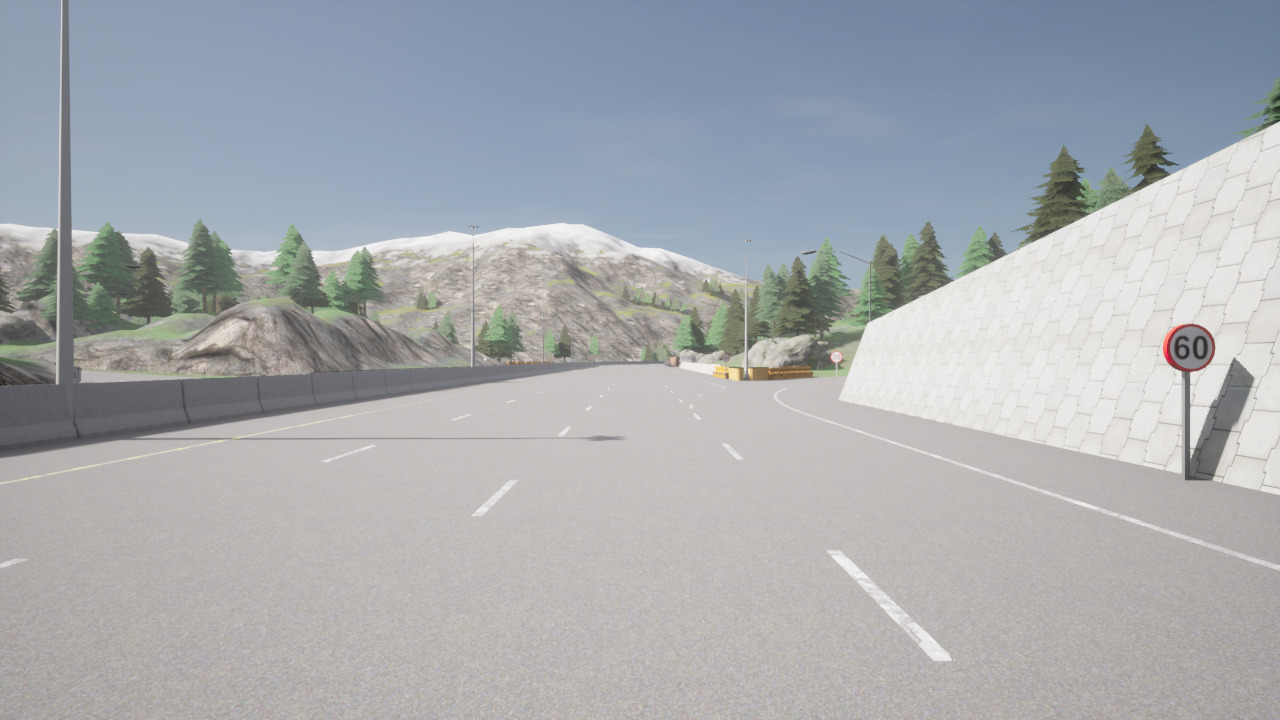sl60: (1160, 321, 1218, 373)
